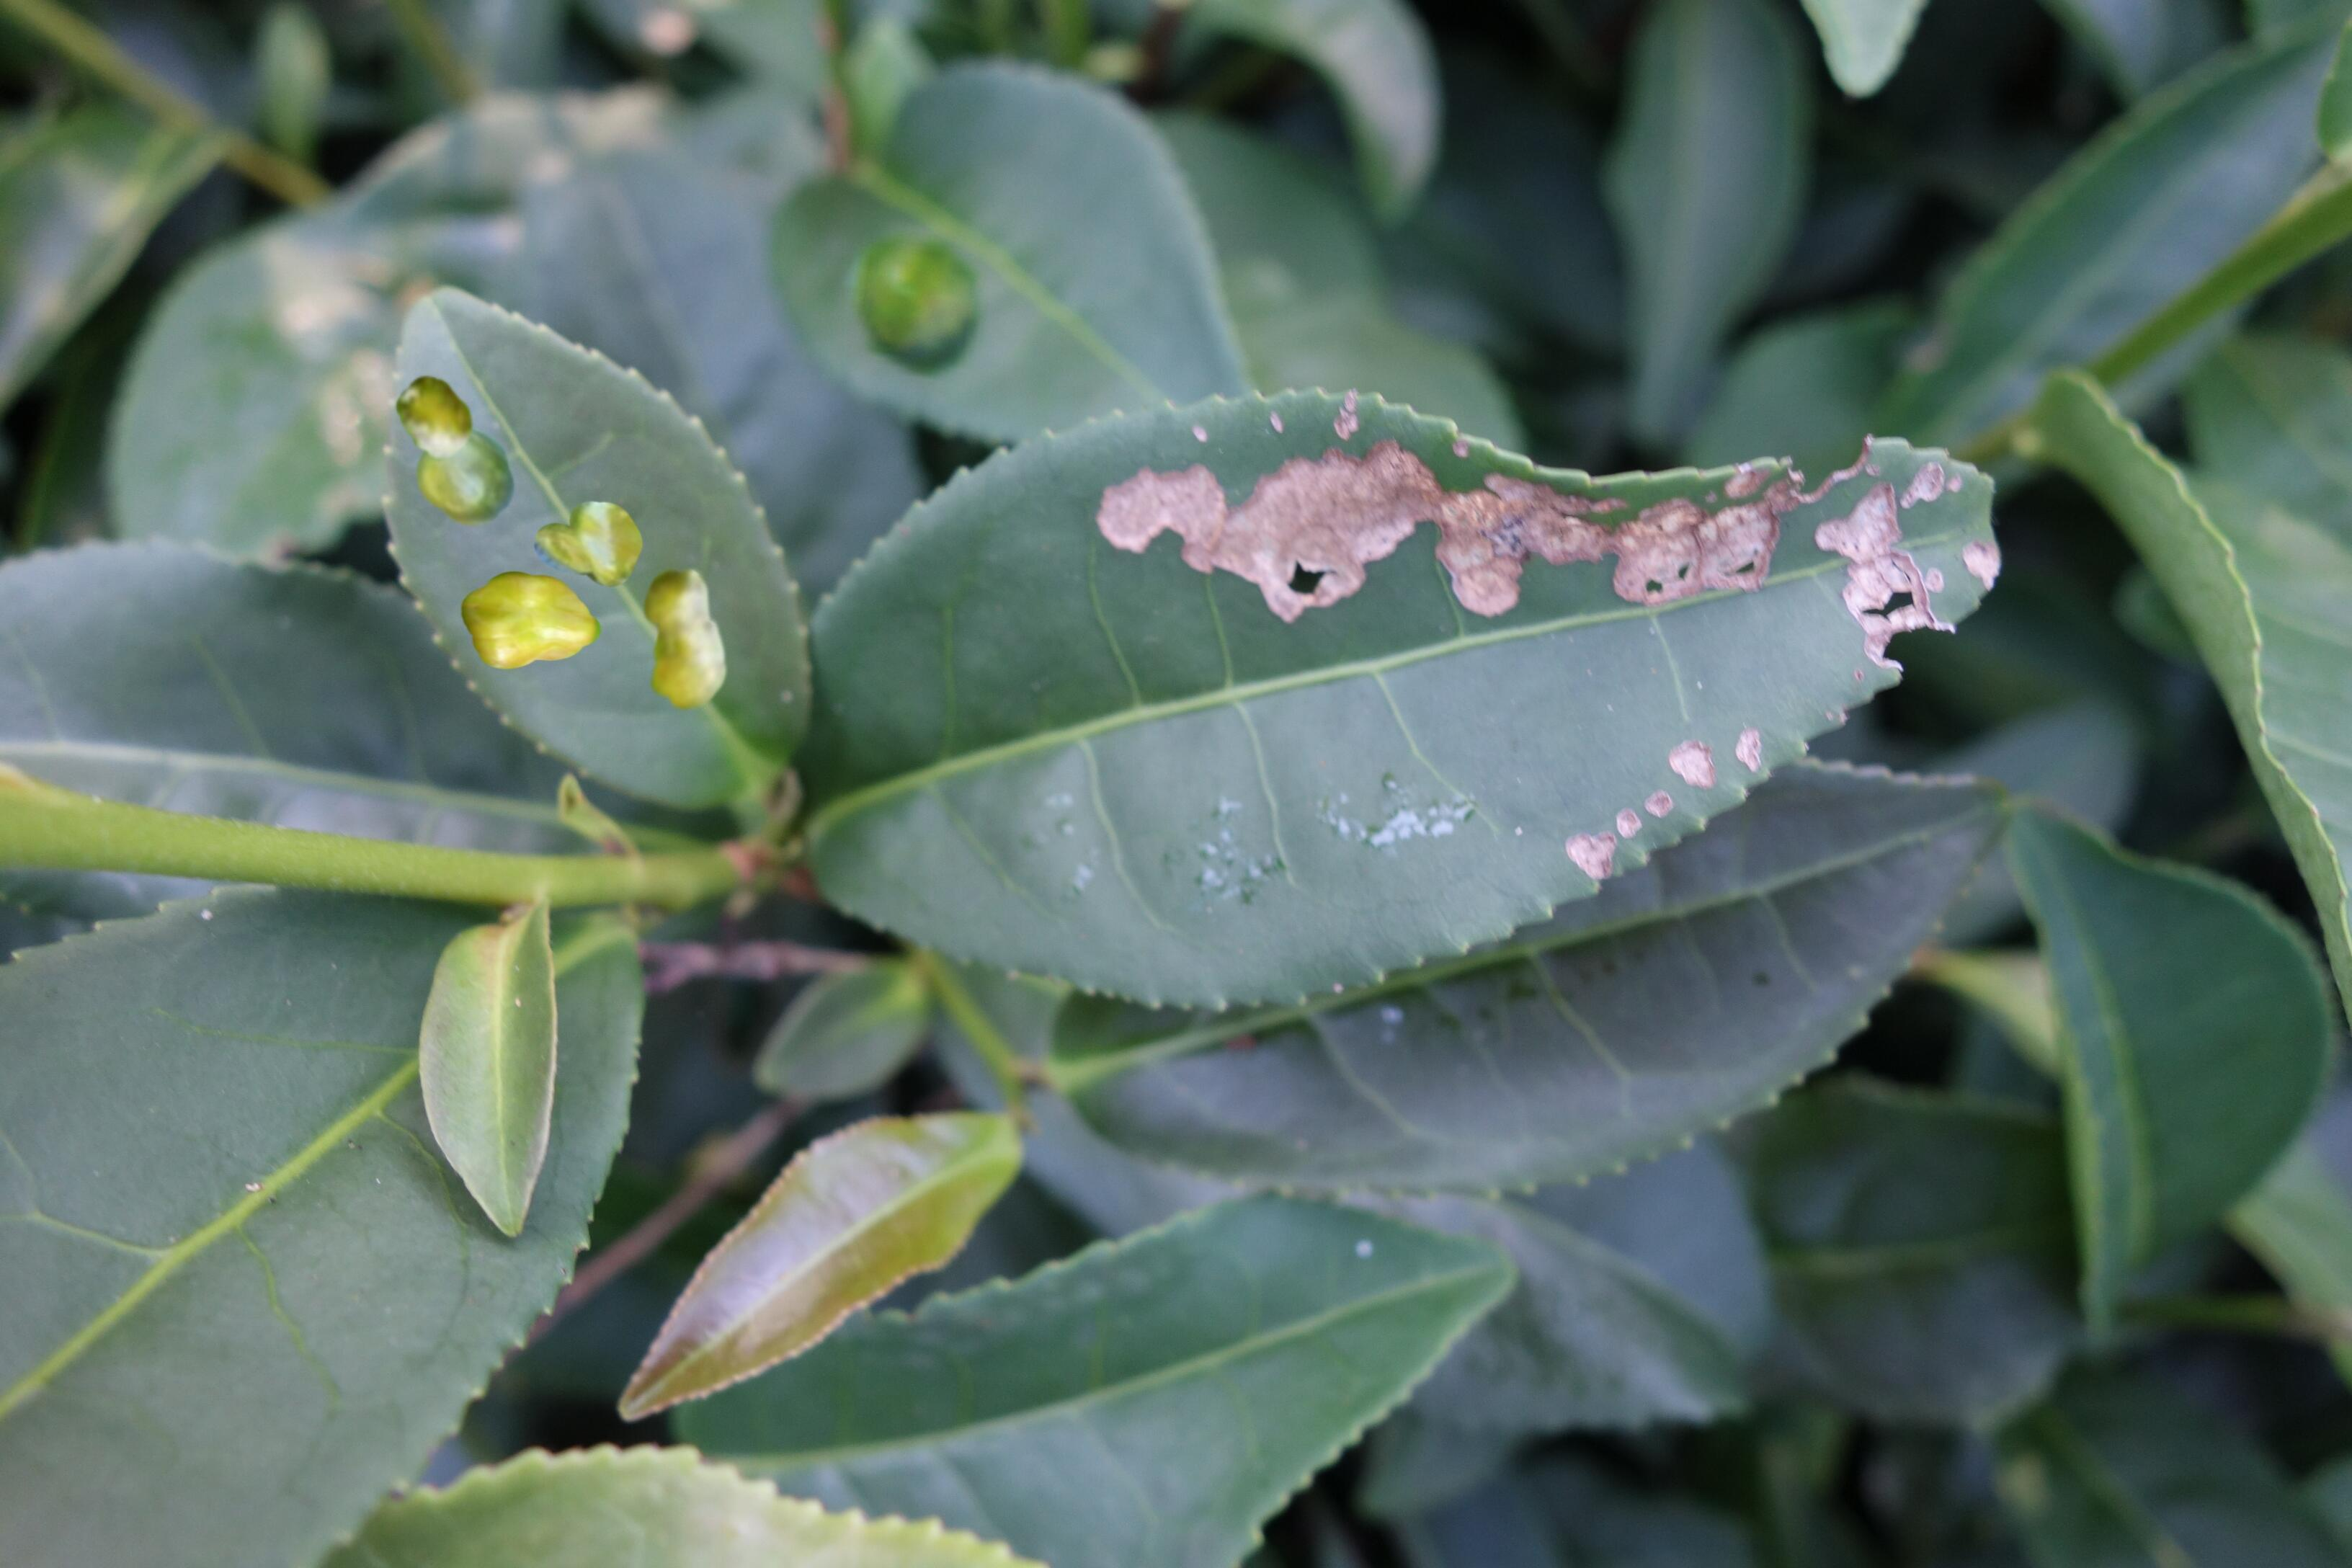chabing_high: (378, 287, 815, 808)
chabing_low: (775, 61, 1251, 443)
healthy: (420, 899, 558, 1242)
tanju_high: (803, 385, 2007, 1017)
tanju_low: (618, 1109, 1029, 1430)
